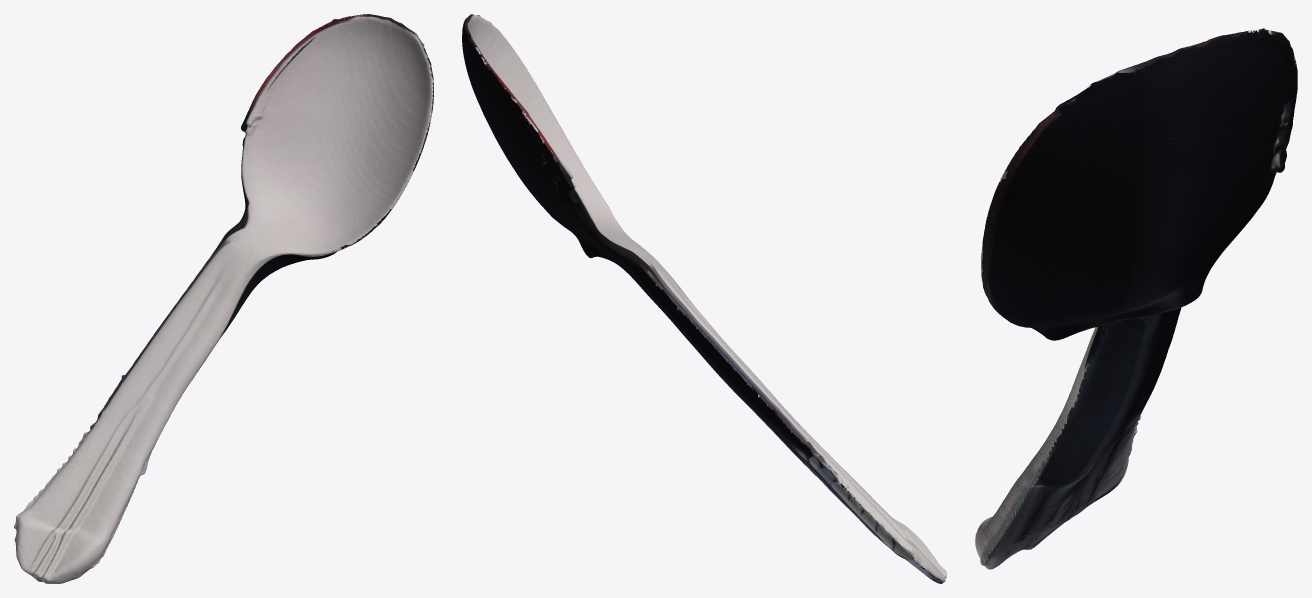
Rendered from image_0002_segmented.glb.
3 renders of one model, left to right at view 1: azimuth 30°, elevation 25°; view 2: azimuth 150°, elevation 25°; view 3: azimuth 270°, elevation 25°, orthographic. The views are drawn at different scales.
Parts seen in each view (by area): view 1: tmpag4cjxrc.ply; view 2: tmpag4cjxrc.ply; view 3: tmpag4cjxrc.ply.
Boxes of the visible parts, box(x1,y1,x2,y2) form: tmpag4cjxrc.ply: box(14, 14, 433, 583); tmpag4cjxrc.ply: box(462, 14, 946, 583); tmpag4cjxrc.ply: box(975, 28, 1297, 569).
Size of the model in its own units: 1.96 by 2 by 0.6626.
1 material, 1 textured.
